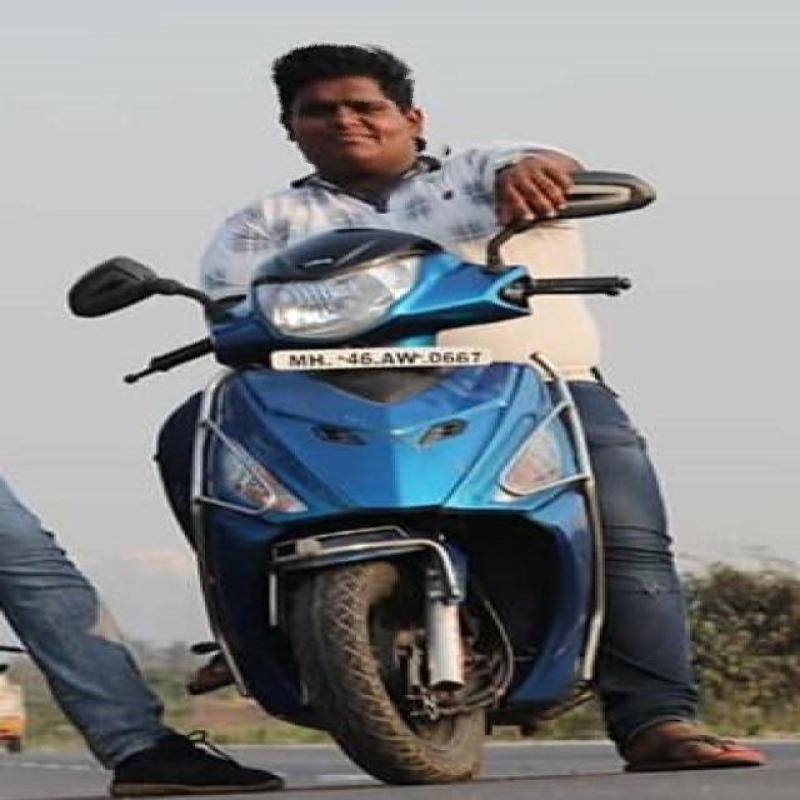nohelmet: (244, 34, 457, 176)
